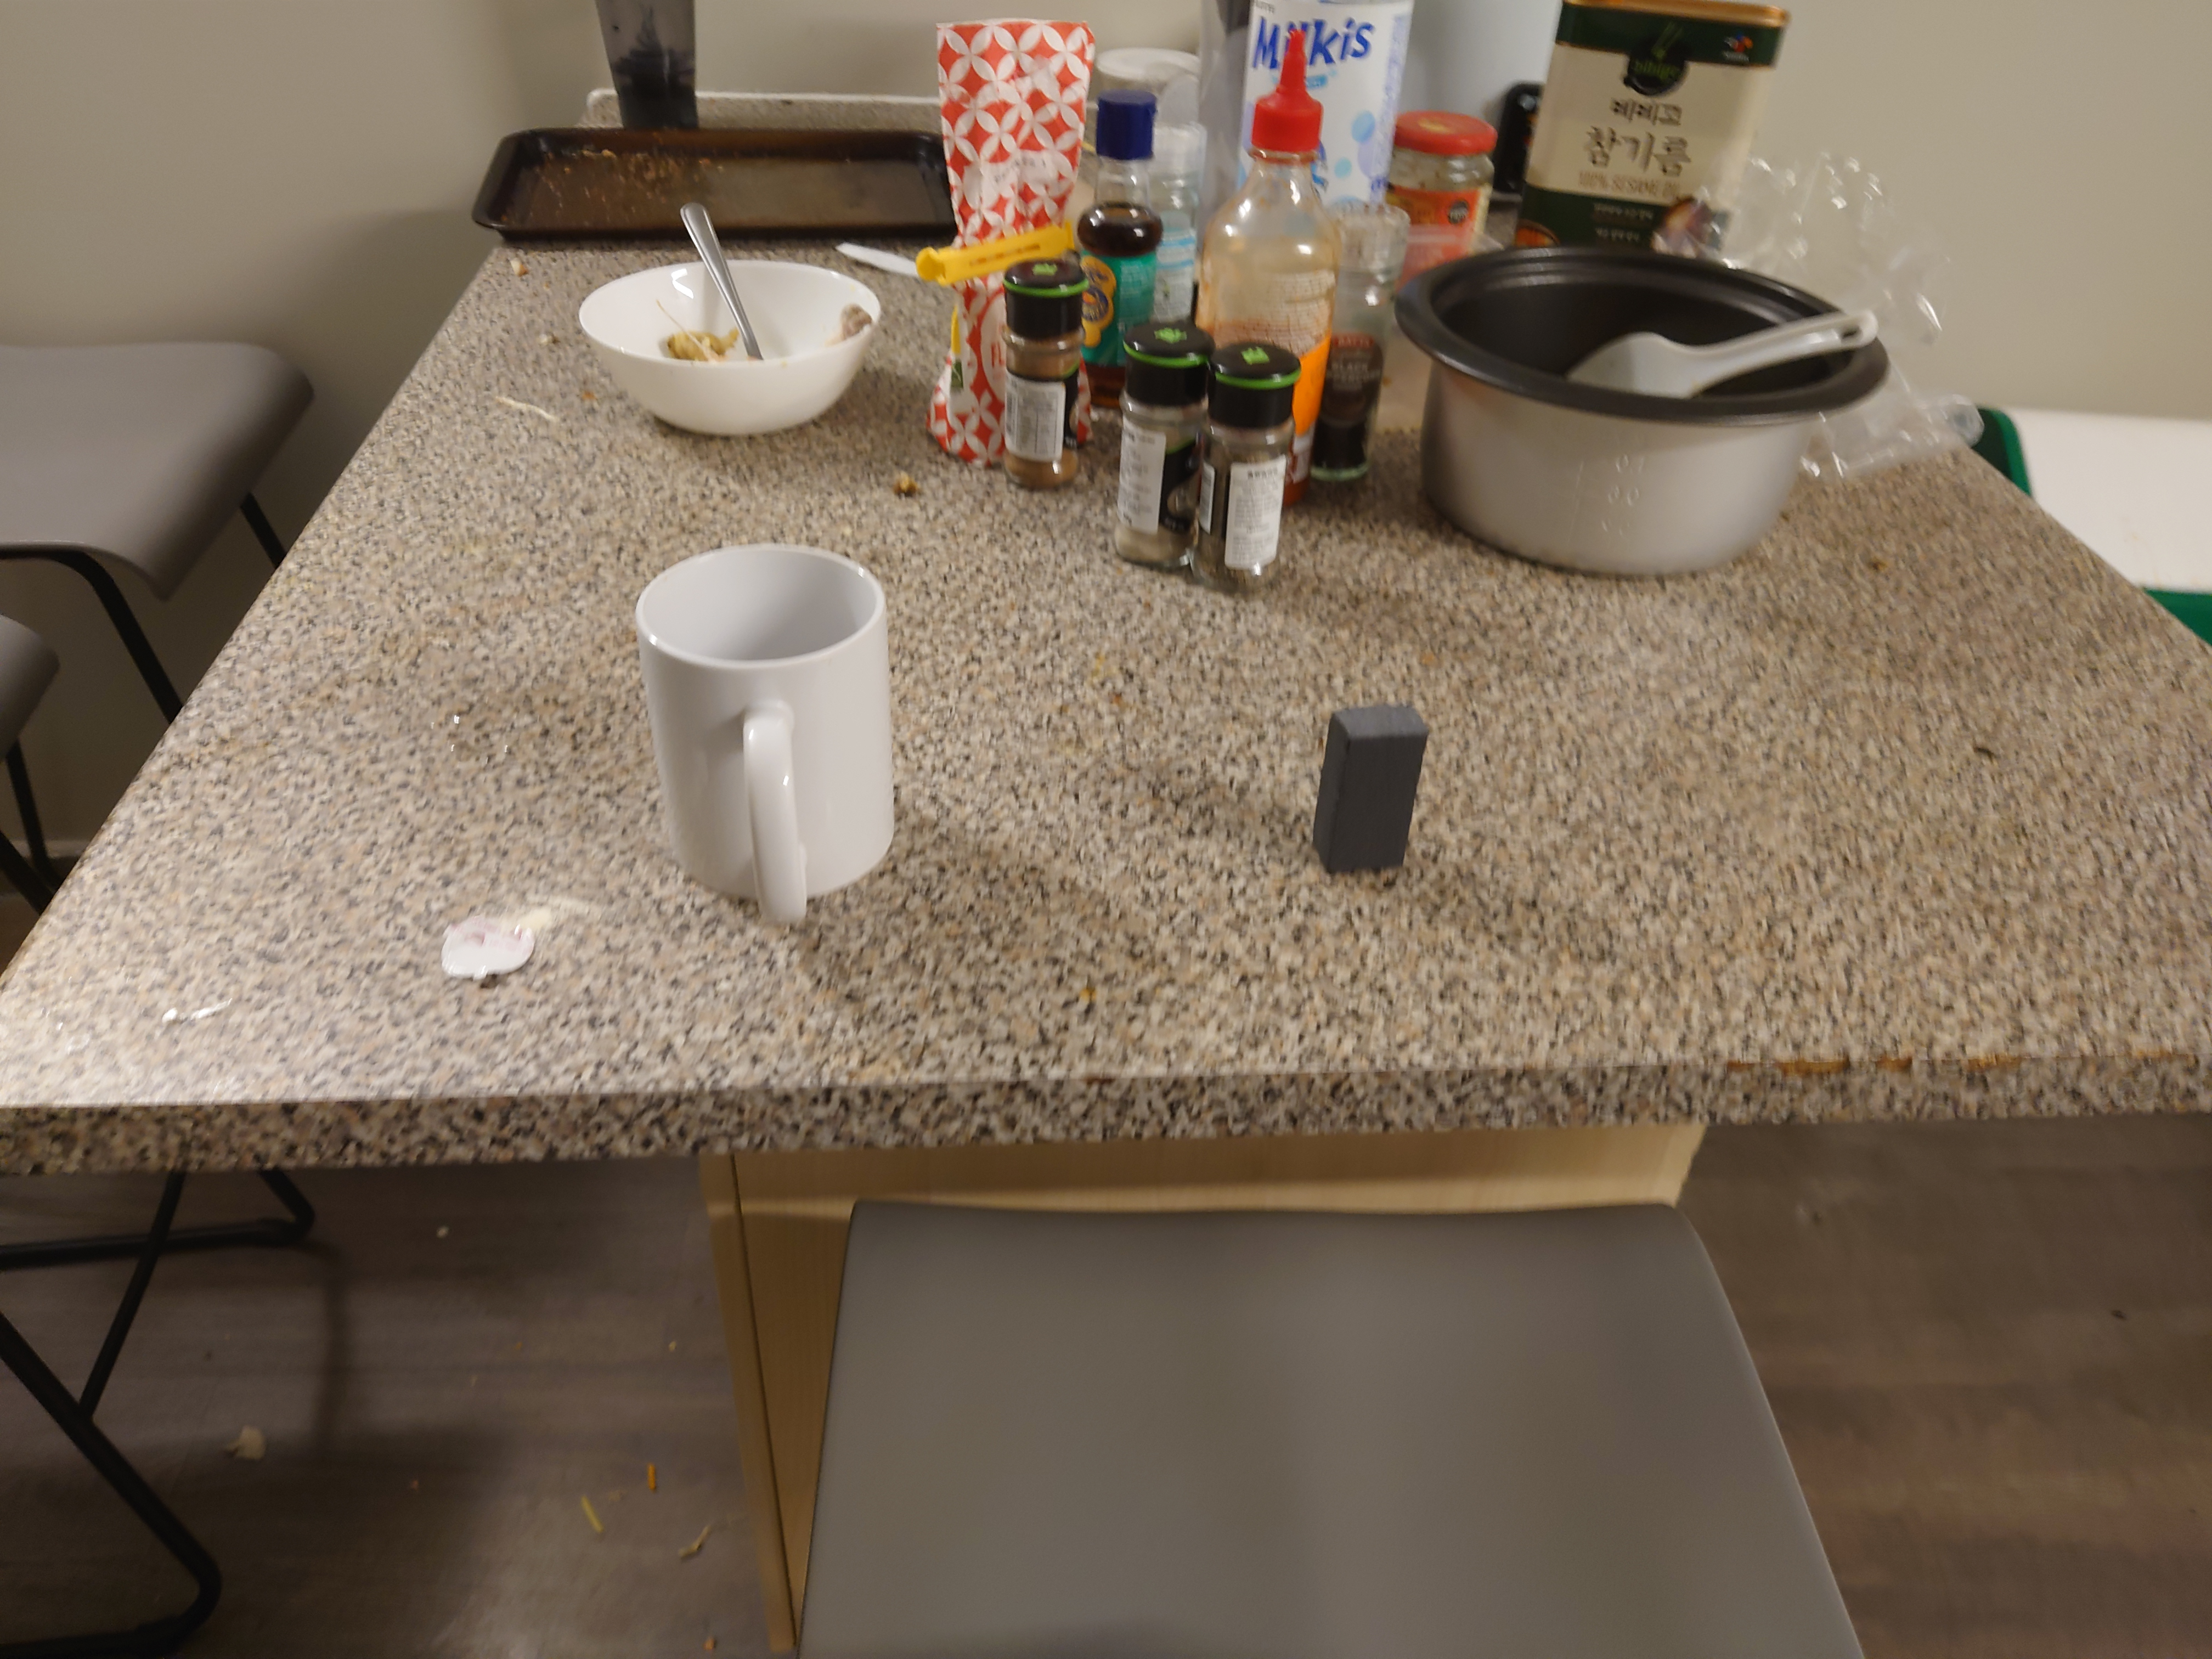cup: (631, 526, 897, 925)
target: (1320, 694, 1428, 889)
